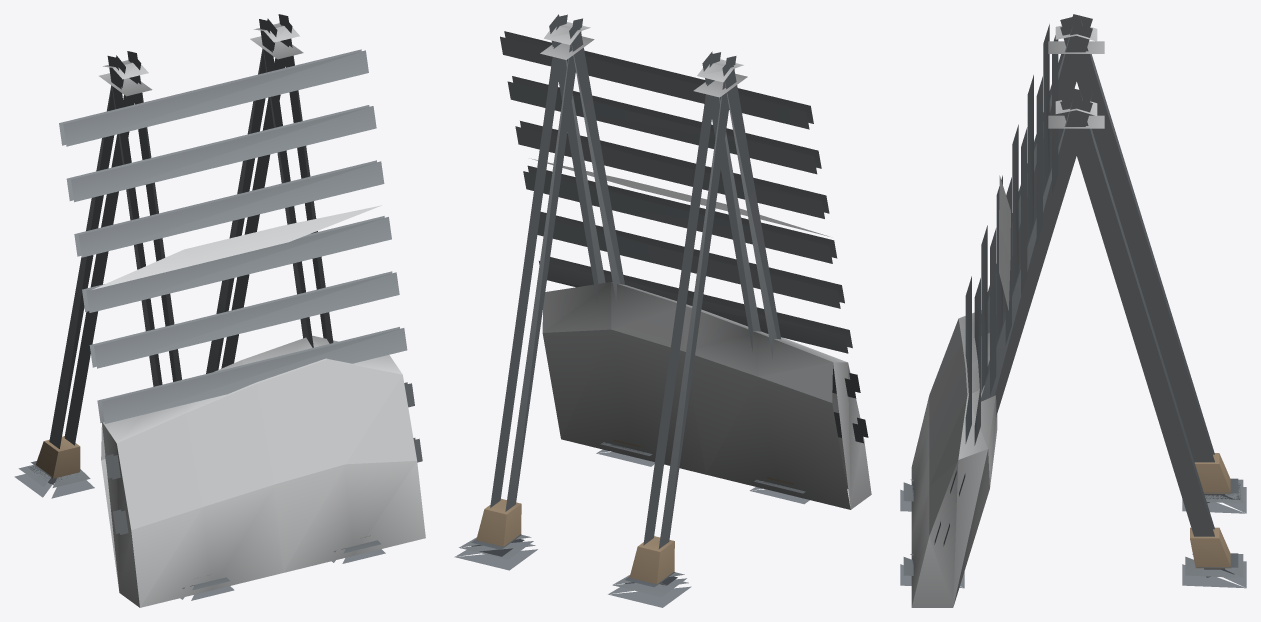
The model's file is barrier.lod.glb.
3 renders of one model, left to right at view 1: azimuth 30°, elevation 25°; view 2: azimuth 150°, elevation 25°; view 3: azimuth 270°, elevation 25°, orthographic.
Visible parts, largest first — view 1: barrier.001; view 2: barrier.001; view 3: barrier.001.
Boxes of the visible parts, bbox=[...] form: barrier.001: bbox=[14, 14, 425, 607]; barrier.001: bbox=[454, 14, 871, 607]; barrier.001: bbox=[900, 14, 1246, 607].
Bounding box in the file's own units: 2 × 3.02 × 1.97.
